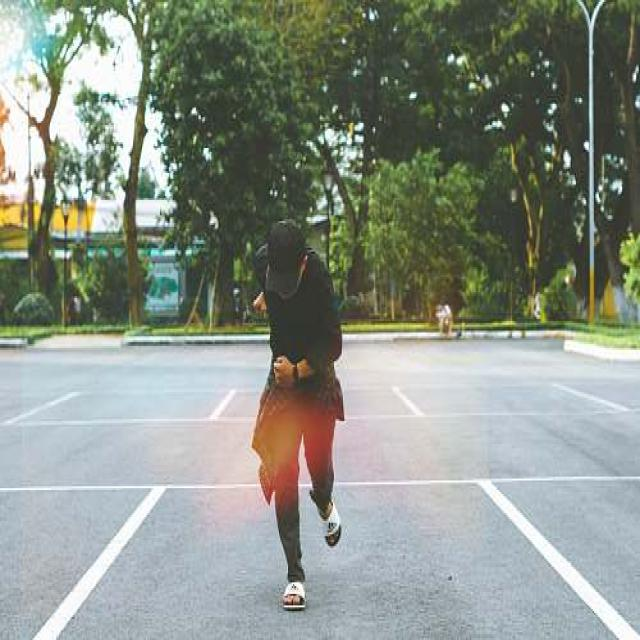running: (247, 217, 351, 615)
